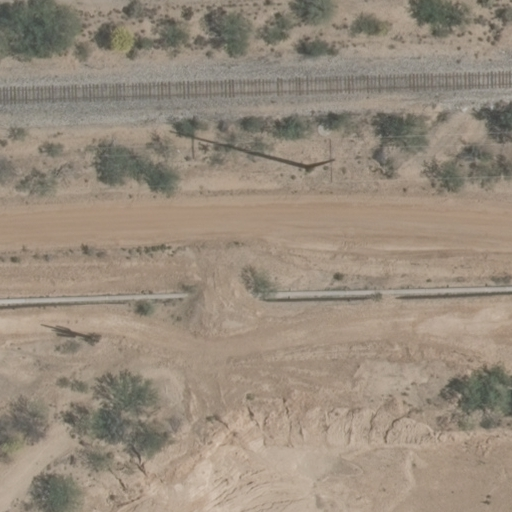DT: (305, 154, 335, 172)
